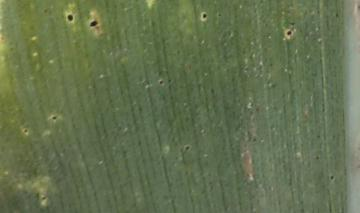tarspot: (87, 18, 100, 31), (65, 11, 76, 24), (199, 9, 209, 23), (157, 76, 167, 90), (326, 173, 339, 183), (48, 112, 58, 124), (284, 29, 296, 39), (22, 125, 30, 138), (183, 143, 192, 153)
